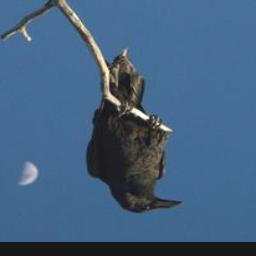Crow: (85, 46, 185, 214)
